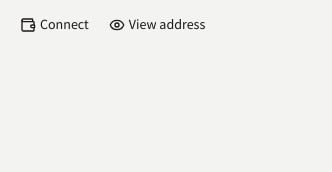
it: WalletButton — disconnected › returns to the wallet control after a successful watch import
Click the button "View address" at (157, 25), box [101,12,213,38]
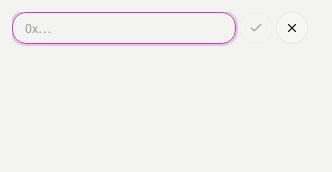
Type "0xabcdefabcdefabcdefabcdefabcdefabcdefabcd" into the field with placeholder "0x…" at (124, 28), box [12,12,236,44]
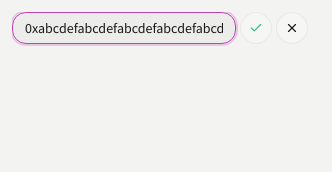
Press Enter in the field with placeholder "0x…", box [12,12,236,44]
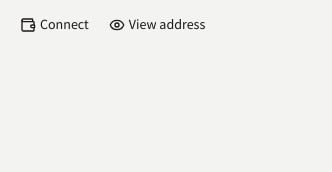
expect the button with aria-label "connect wallet" is shown: met, box [12,12,97,38]
